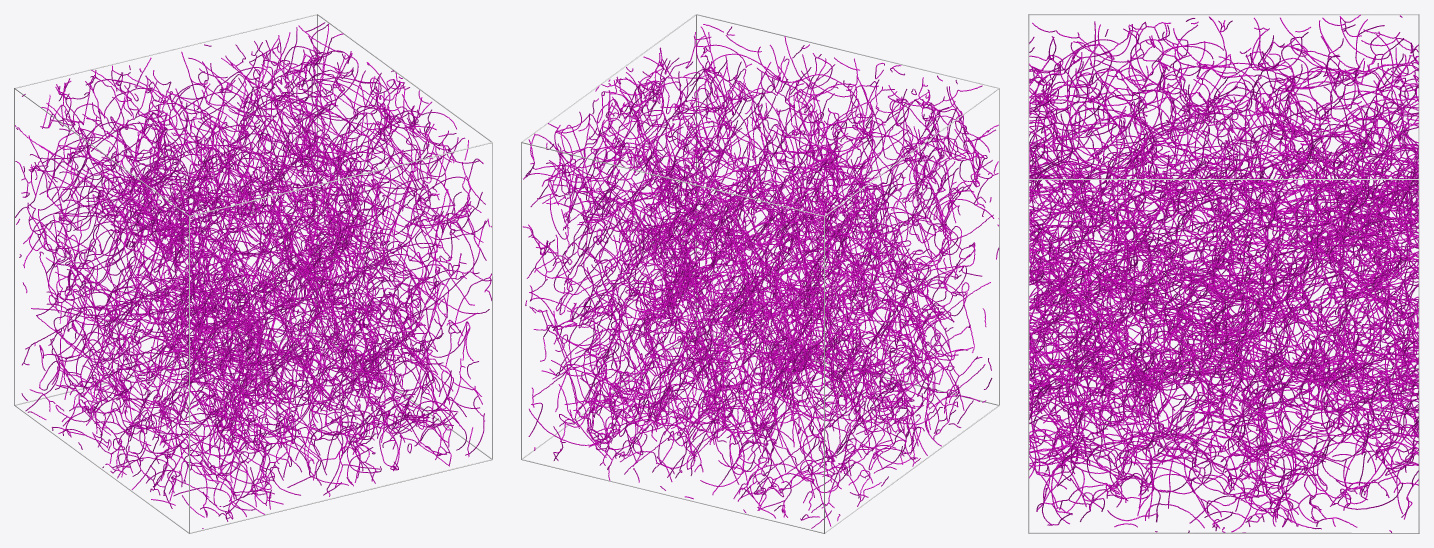
The model's file is large_DDD_model.glb.
3 views of the same model, side by side, from view 1: azimuth 30°, elevation 25°; view 2: azimuth 150°, elevation 25°; view 3: azimuth 270°, elevation 25° (orthographic). The views are drawn at different scales.
Visible parts, largest first — view 1: Shape_IndexedLineSet.001, Shape_IndexedLineSet; view 2: Shape_IndexedLineSet.001, Shape_IndexedLineSet; view 3: Shape_IndexedLineSet.001, Shape_IndexedLineSet.
Part boxes in pixels (bbox=[...]): Shape_IndexedLineSet.001: bbox=[15, 22, 491, 528]; Shape_IndexedLineSet: bbox=[14, 14, 492, 533]; Shape_IndexedLineSet.001: bbox=[522, 24, 999, 528]; Shape_IndexedLineSet: bbox=[521, 14, 999, 533]; Shape_IndexedLineSet.001: bbox=[1029, 14, 1418, 532]; Shape_IndexedLineSet: bbox=[1028, 14, 1419, 533].
Bounding box in the file's own units: 1.84 × 1.84 × 1.84.
